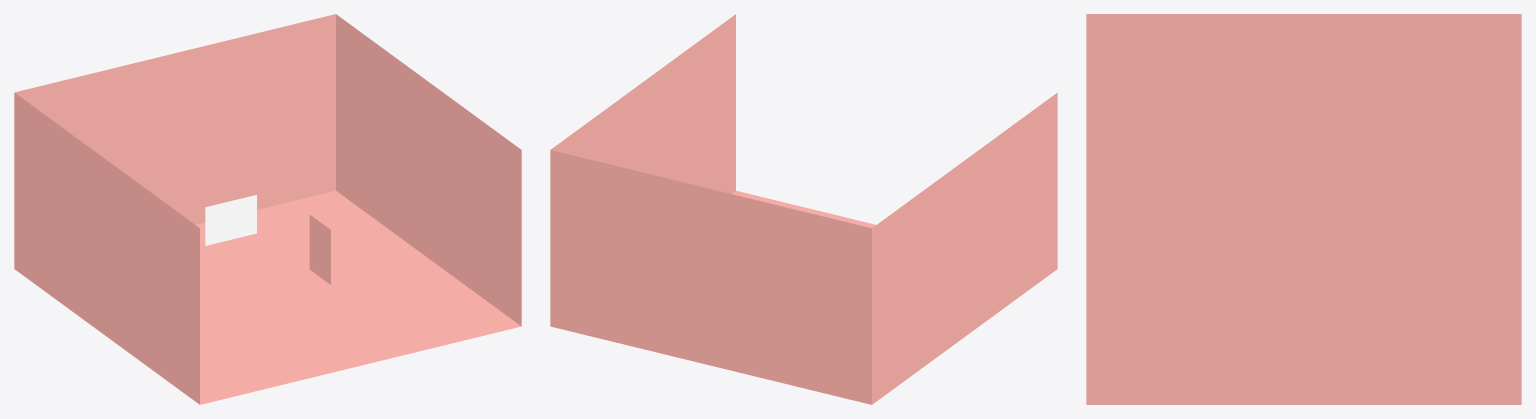
File: background.glb
3 renders of one model, left to right at view 1: azimuth 30°, elevation 25°; view 2: azimuth 150°, elevation 25°; view 3: azimuth 270°, elevation 25°, orthographic. The views are drawn at different scales.
Visible parts, largest first — view 1: background scene, window emission, doorway; view 2: background scene; view 3: background scene.
Part boxes in pixels (x1,y1,x2,y2): background scene: (14,14,521,404); window emission: (205,195,256,245); doorway: (309,215,330,284); background scene: (550,14,1057,404); background scene: (1086,14,1521,404).
Bounding box in the file's own units: 8 × 4.2 × 8.
